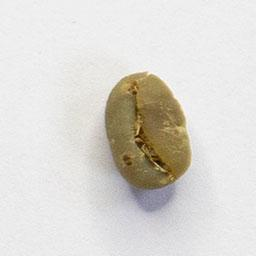peaberry: (102, 66, 197, 194)
